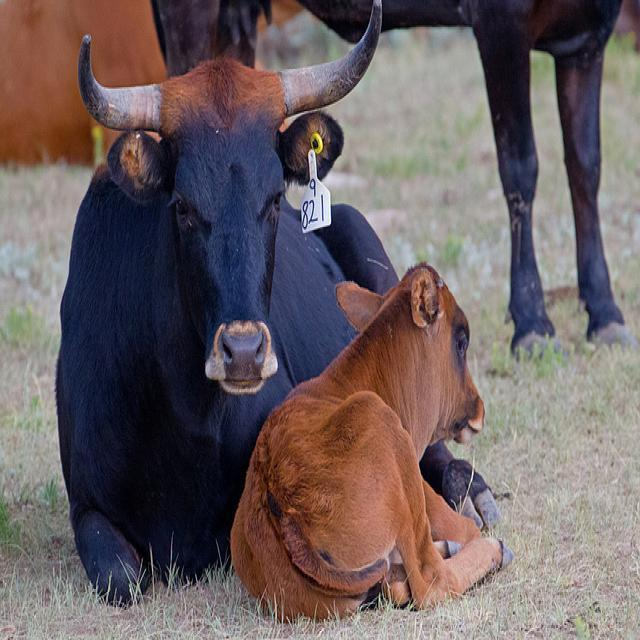cow: (54, 6, 402, 607), (230, 264, 514, 619), (380, 0, 636, 352), (0, 0, 183, 164)
